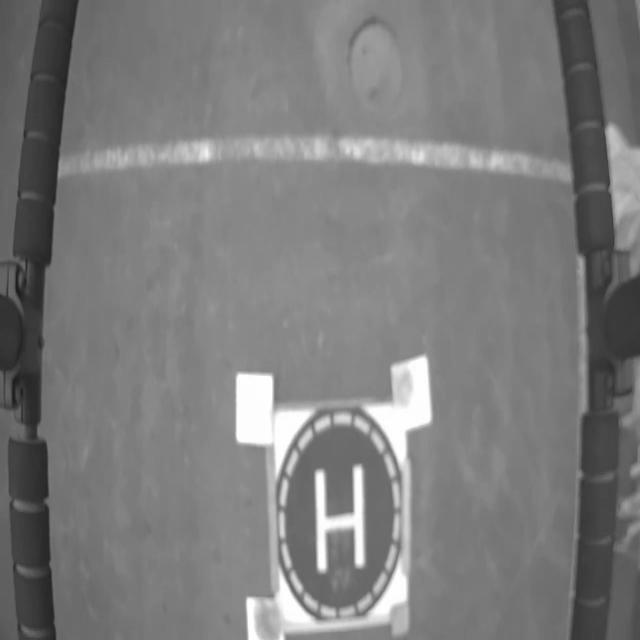Helipad: (315, 464, 365, 573)
